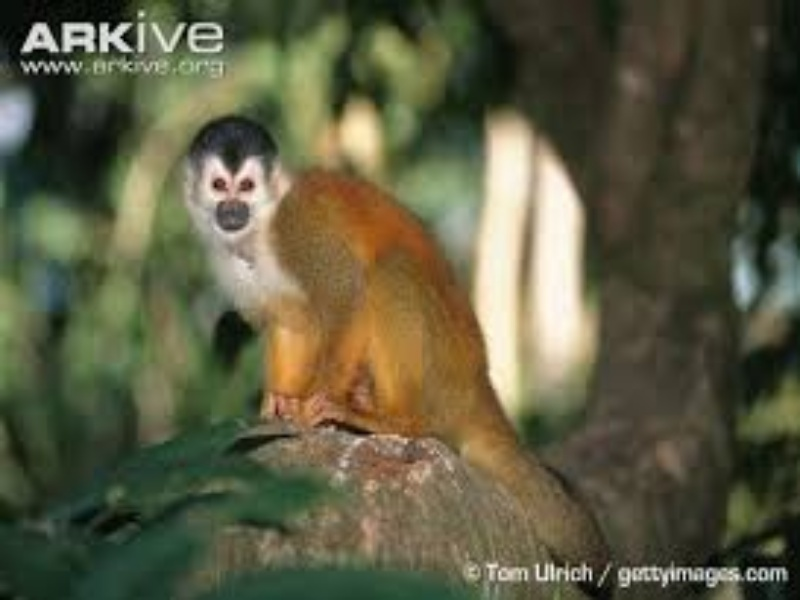monkey: (167, 87, 548, 431)
